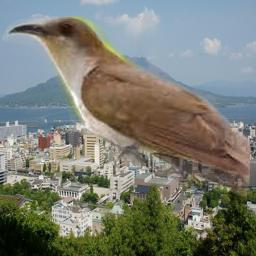Cuckoo: (2, 16, 250, 199)
